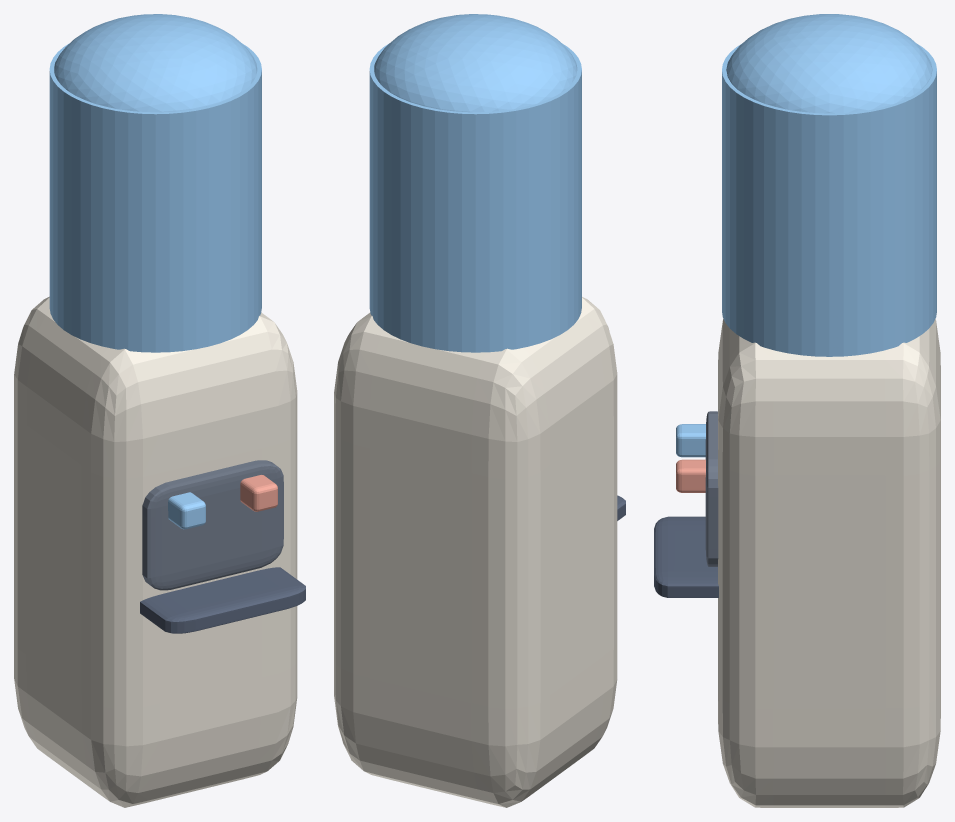
File: water-cooler.glb
3 renders of one model, left to right at view 1: azimuth 30°, elevation 25°; view 2: azimuth 150°, elevation 25°; view 3: azimuth 270°, elevation 25°, orthographic.
Visible parts, largest first — view 1: body, bottle, shoulder, recess, tray, tap0, tap1; view 2: body, bottle, shoulder; view 3: body, bottle, shoulder, tray, recess, tap1, tap0.
Boxes of the visible parts, bbox=[...] form: body: bbox=[14, 296, 297, 807]; bottle: bbox=[49, 43, 261, 352]; shoulder: bbox=[54, 14, 257, 112]; recess: bbox=[142, 460, 283, 590]; tray: bbox=[140, 567, 305, 633]; tap0: bbox=[168, 492, 205, 529]; tap1: bbox=[240, 475, 277, 511]; body: bbox=[334, 297, 617, 807]; bottle: bbox=[369, 43, 581, 352]; shoulder: bbox=[374, 14, 577, 112]; body: bbox=[718, 319, 940, 807]; bottle: bbox=[722, 44, 936, 356]; shoulder: bbox=[726, 14, 932, 113]; tray: bbox=[654, 516, 718, 597]; recess: bbox=[705, 411, 718, 566]; tap1: bbox=[676, 459, 705, 492]; tap0: bbox=[676, 424, 705, 457].
Size of the model in its own units: 0.49 by 1.7 by 0.592.
